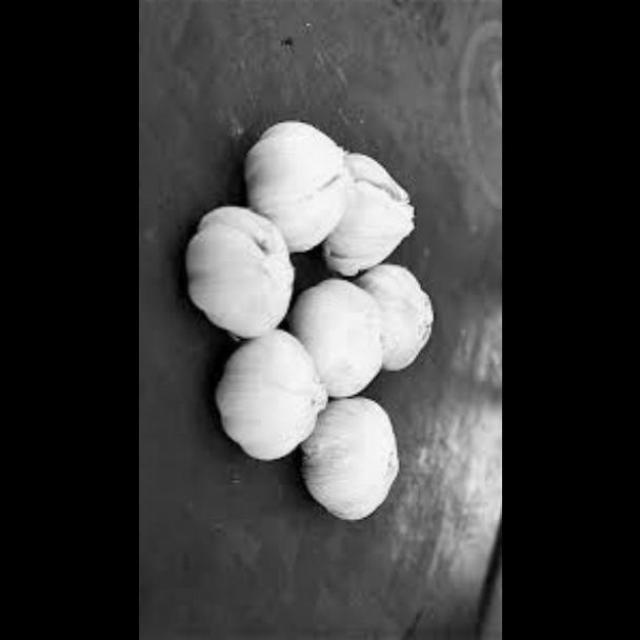cu toi: (210, 330, 328, 466), (180, 203, 296, 340), (295, 393, 402, 527), (344, 248, 440, 384), (299, 271, 398, 401), (247, 128, 342, 249), (324, 152, 413, 275)
